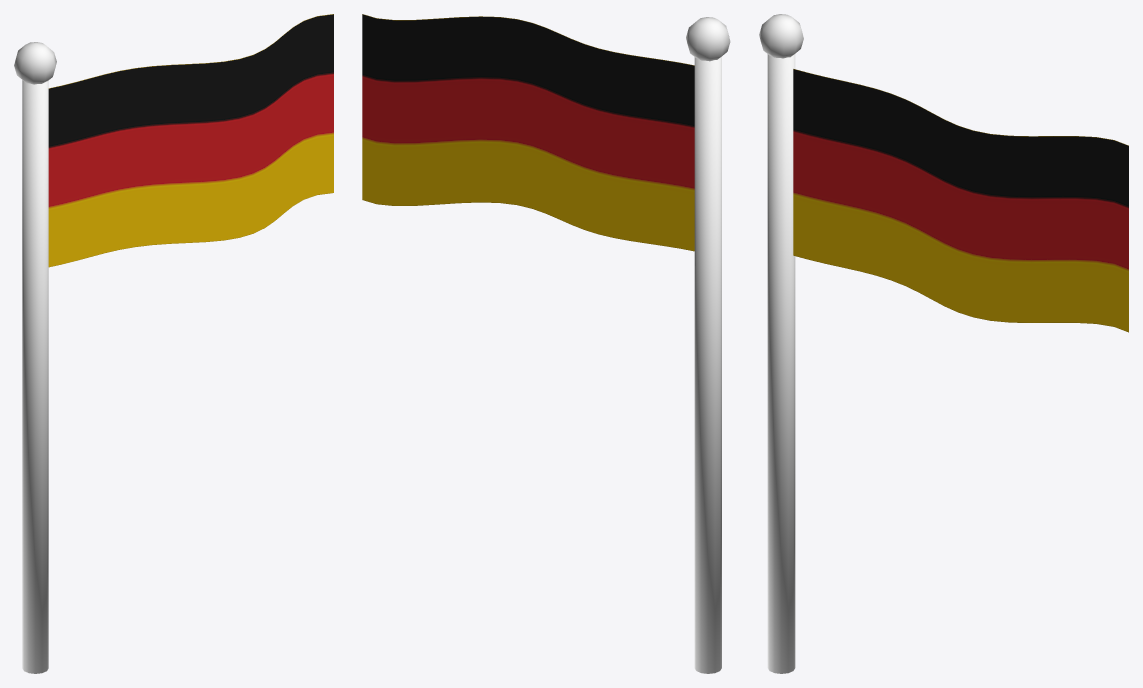
Rendered from FlagGermany.glb.
3 renders of one model, left to right at view 1: azimuth 30°, elevation 25°; view 2: azimuth 150°, elevation 25°; view 3: azimuth 330°, elevation 25°, orthographic. The views are drawn at different scales.
Visible parts, largest first — view 1: WaveFlagGermany, WavePoleUSA; view 2: WaveFlagGermany, WavePoleUSA; view 3: WaveFlagGermany, WavePoleUSA.
Boxes of the visible parts, x1,y1,x2,y2 form: WaveFlagGermany: [48, 14, 333, 267]; WavePoleUSA: [14, 42, 56, 673]; WaveFlagGermany: [362, 14, 694, 251]; WavePoleUSA: [686, 17, 730, 673]; WaveFlagGermany: [793, 69, 1128, 332]; WavePoleUSA: [759, 14, 803, 673].
Size of the model in its own units: 0.8775 by 1.57 by 0.1342.
2 materials, 1 textured.
